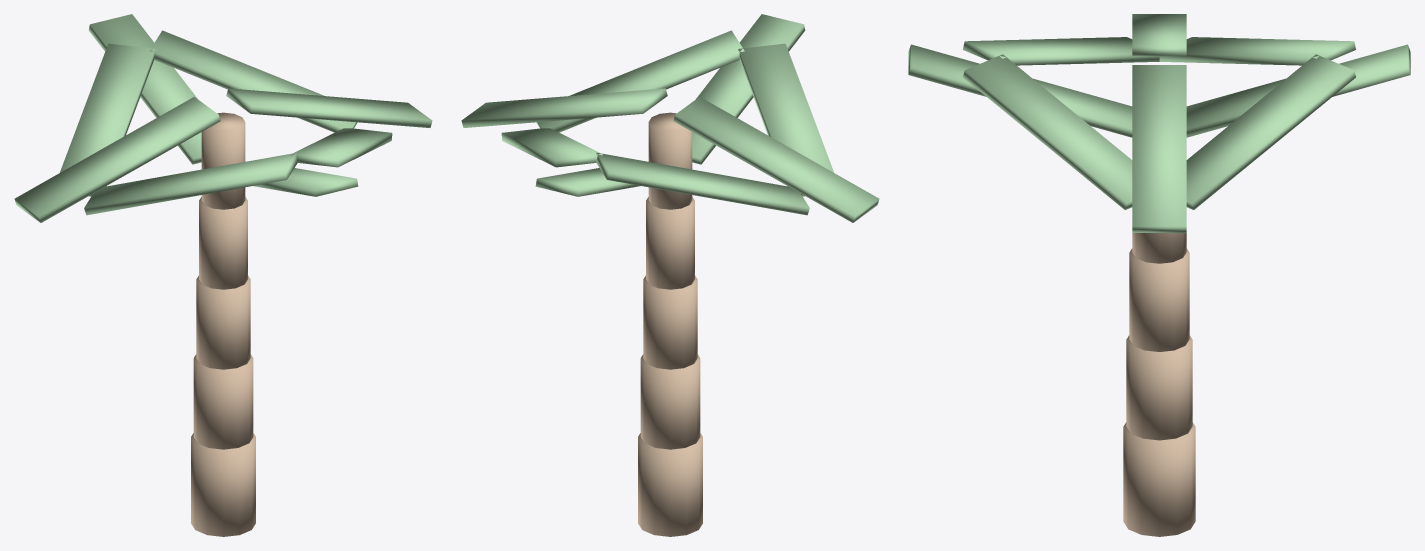
Rendered from palm_tree.glb.
3 views of the same model, side by side, from view 1: azimuth 30°, elevation 25°; view 2: azimuth 150°, elevation 25°; view 3: azimuth 270°, elevation 25° (orthographic). The views are drawn at different scales.
Parts seen in each view (by area): view 1: palm_leaf_6, palm_trunk_0, palm_leaf_7, palm_leaf_5, palm_trunk_1, palm_leaf_2, palm_trunk_2, palm_leaf_1, palm_trunk_3, palm_leaf_0, palm_trunk_4, palm_leaf_3 (+1 smaller); view 2: palm_leaf_6, palm_trunk_0, palm_leaf_5, palm_leaf_7, palm_trunk_1, palm_leaf_2, palm_trunk_2, palm_leaf_3, palm_trunk_3, palm_leaf_4, palm_trunk_4, palm_leaf_1 (+1 smaller); view 3: palm_leaf_2, palm_leaf_1, palm_leaf_3, palm_trunk_0, palm_trunk_1, palm_trunk_2, palm_leaf_0, palm_leaf_4, palm_leaf_5, palm_leaf_7, palm_leaf_6, palm_trunk_3.
Part boxes in pixels (box(x1,y1,x2,y2)): palm_leaf_6: box(14, 97, 220, 222); palm_trunk_0: box(191, 433, 255, 536); palm_leaf_7: box(60, 43, 155, 196); palm_leaf_5: box(84, 152, 297, 215); palm_trunk_1: box(193, 354, 253, 449); palm_leaf_2: box(226, 88, 432, 127); palm_trunk_2: box(196, 275, 250, 369); palm_leaf_1: box(149, 30, 357, 132); palm_trunk_3: box(199, 197, 247, 289); palm_leaf_0: box(88, 14, 201, 164); palm_trunk_4: box(201, 112, 245, 209); palm_leaf_3: box(291, 128, 392, 167); palm_leaf_6: box(673, 97, 879, 222); palm_trunk_0: box(638, 433, 702, 536); palm_leaf_5: box(738, 43, 833, 196); palm_leaf_7: box(596, 152, 809, 215); palm_trunk_1: box(640, 354, 700, 449); palm_leaf_2: box(461, 88, 667, 127); palm_trunk_2: box(643, 275, 697, 369); palm_leaf_3: box(536, 30, 744, 132); palm_trunk_3: box(646, 197, 694, 289); palm_leaf_4: box(692, 14, 805, 164); palm_trunk_4: box(648, 112, 692, 209); palm_leaf_1: box(501, 128, 602, 167); palm_leaf_2: box(1132, 65, 1186, 232); palm_leaf_1: box(1186, 54, 1355, 209); palm_leaf_3: box(963, 54, 1132, 209); palm_trunk_0: box(1123, 422, 1195, 536); palm_trunk_1: box(1126, 335, 1192, 440); palm_trunk_2: box(1129, 248, 1189, 351); palm_leaf_0: box(1186, 44, 1410, 137); palm_leaf_4: box(908, 44, 1132, 137); palm_leaf_5: box(963, 37, 1159, 65); palm_leaf_7: box(1159, 37, 1355, 65); palm_leaf_6: box(1132, 14, 1186, 55); palm_trunk_3: box(1132, 233, 1186, 263).
Size of the model in its own units: 1.67 by 1.71 by 1.67.
